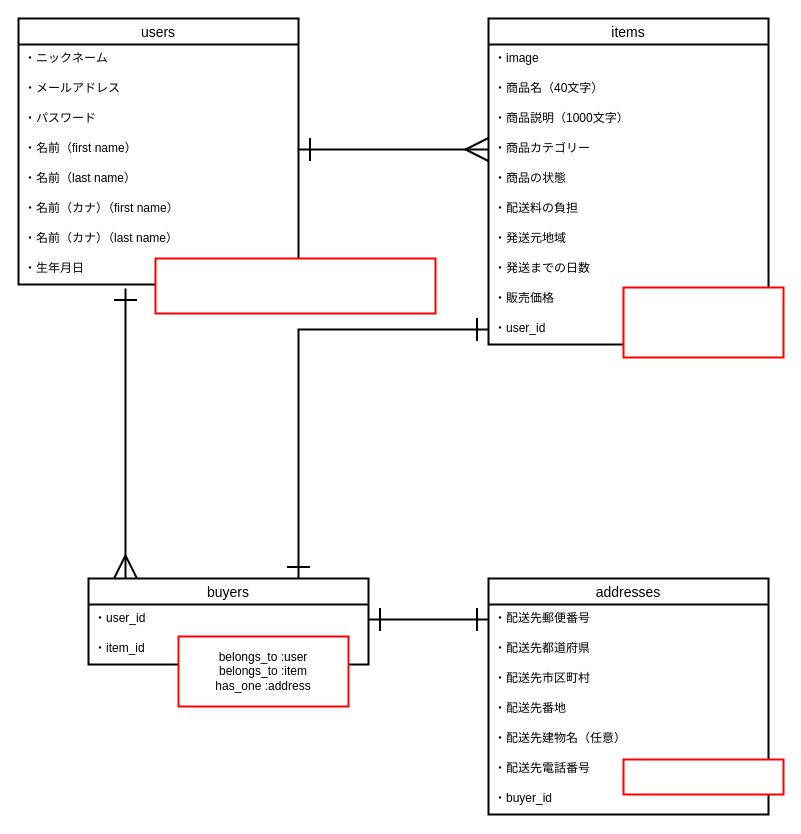
The diagram is 801 pixels wide and 834 high, and some of its shapes have lost their labels. Here are the shapes that lost their labels. From the top down, the centre of each, then its label:
At point (295, 285): "has_many :items has_many :buyers".
At point (703, 322): "belongs_to :user has_one :buyer".
At point (703, 776): "belongs_to :buyer".
